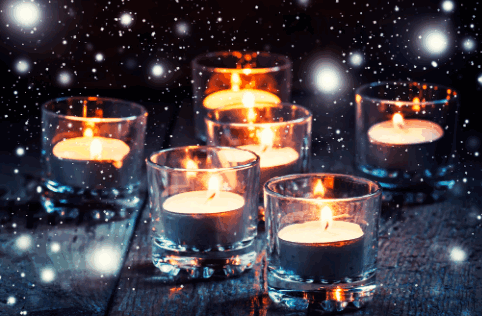Fire: (309, 203, 341, 241), (199, 174, 232, 209)
